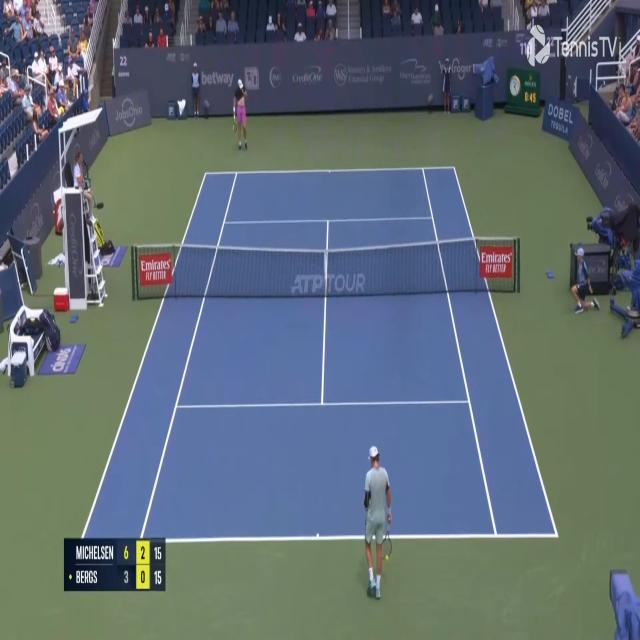tennis-player: (360, 444, 393, 604), (231, 76, 248, 153)
